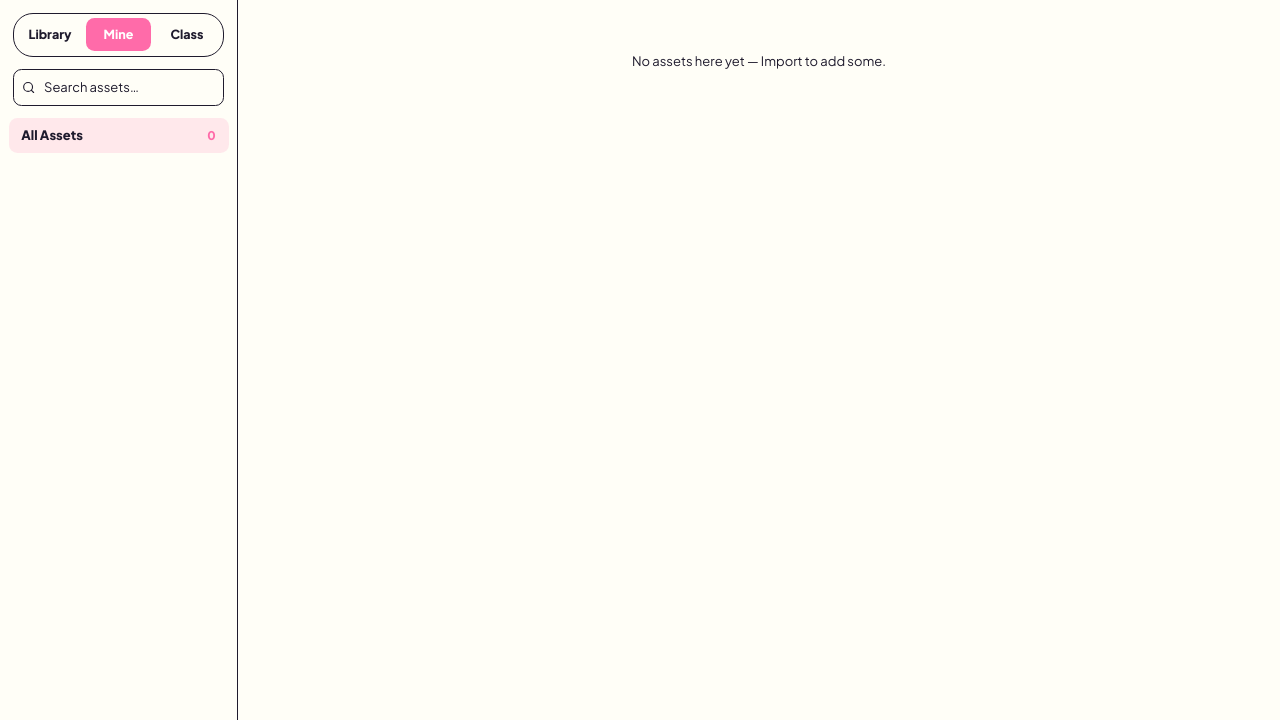
Scenario: AssetViewerPane — read-only viewer (D-LV-6) › still previews the asset + its copy-reference
The width and height of the screenshot is (1280, 720).
Click the button with test id "asset-source-class" at (187, 35), box [155,18,219,51]
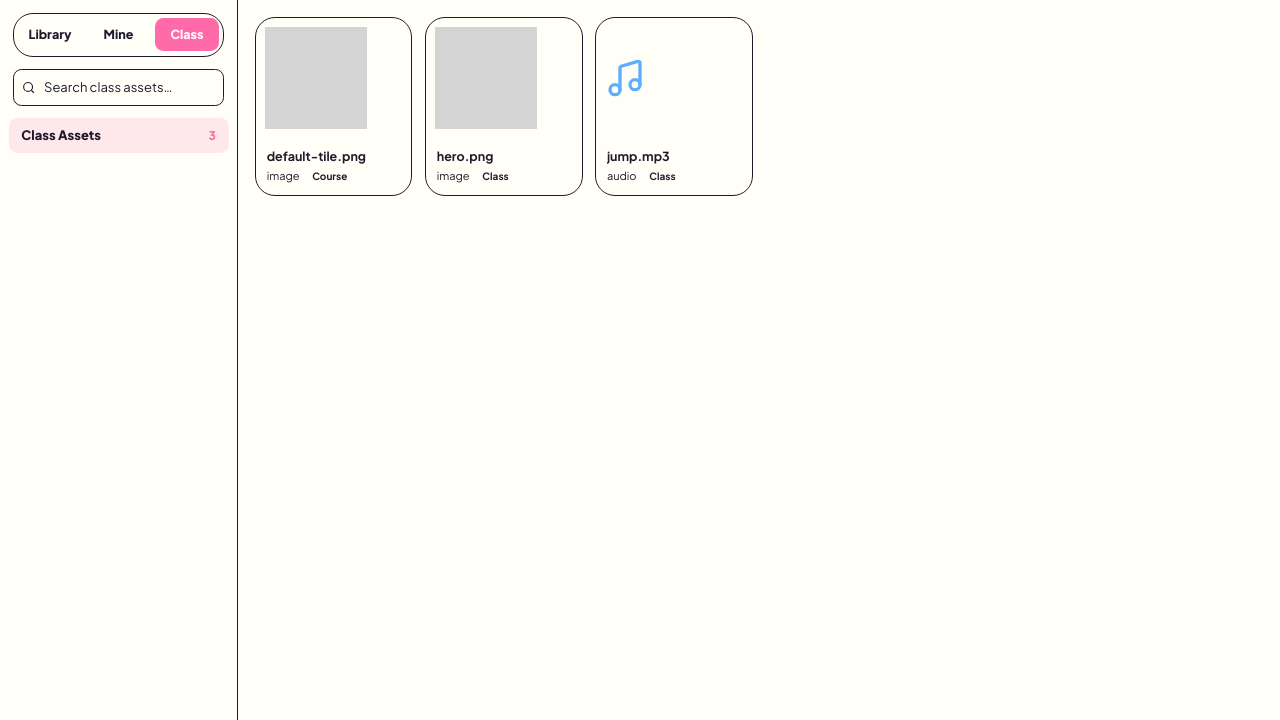
Click the button with test id "class-asset-card" showing "default-tile.png image Course" at (334, 107), box [255,17,412,196]
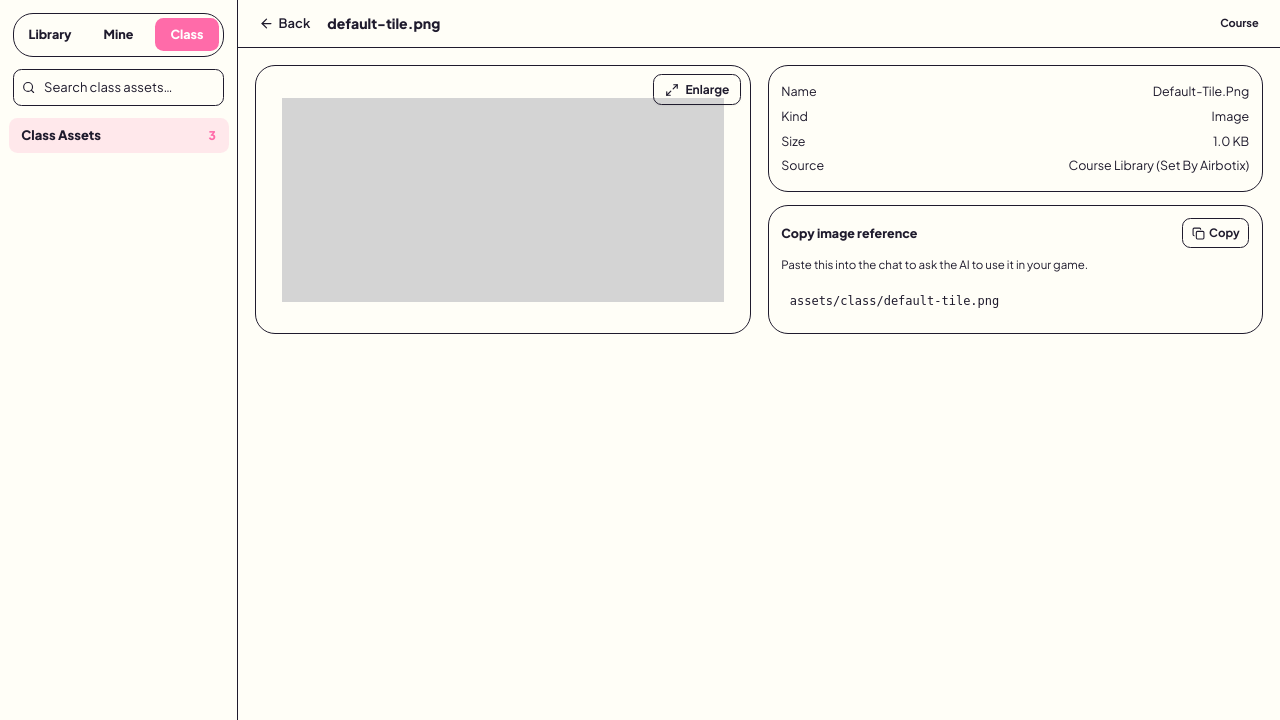
Result: the text "assets/class/default-tile.png" is shown at [790,294,999,308]
